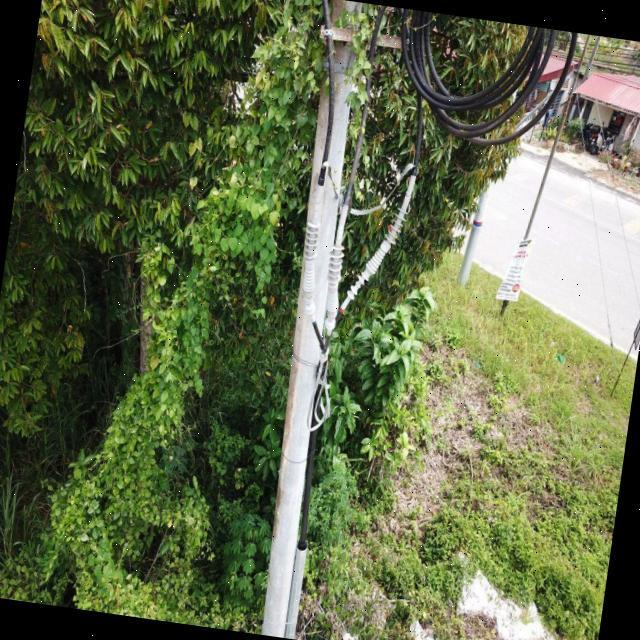critical vegetation: (23, 0, 363, 611)
